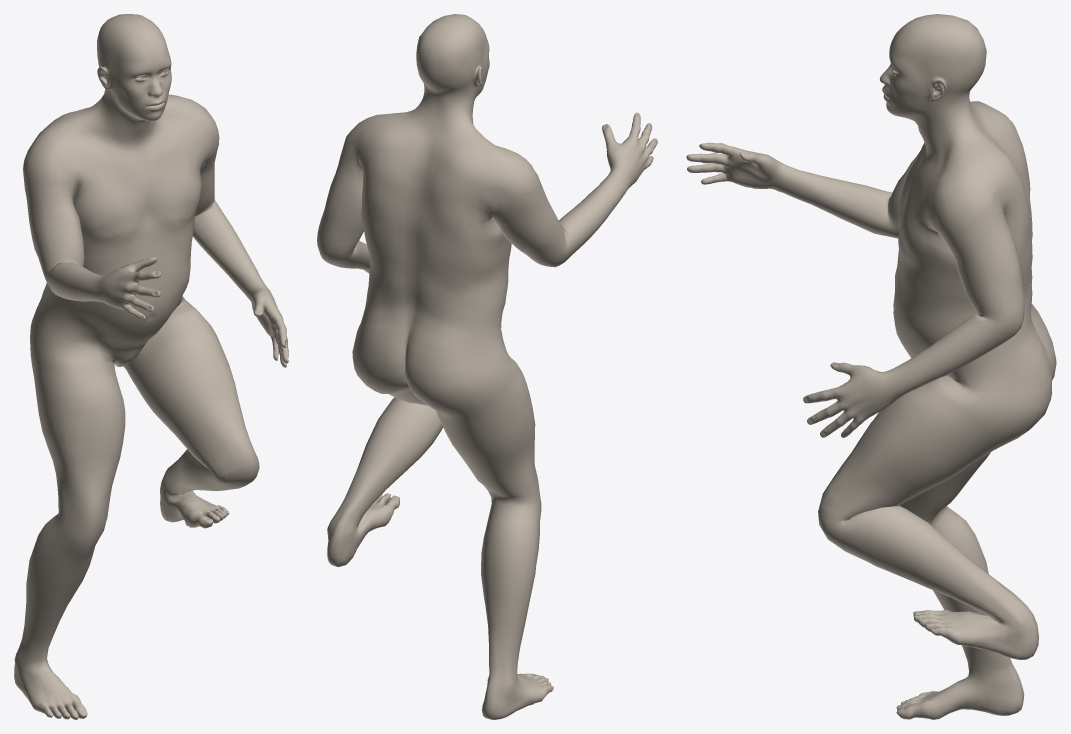
The model's file is sitka_body_run.glb.
3 views of the same model, side by side, from view 1: azimuth 30°, elevation 25°; view 2: azimuth 150°, elevation 25°; view 3: azimuth 270°, elevation 25° (orthographic). The views are drawn at different scales.
Visible parts, largest first — view 1: body_run; view 2: body_run; view 3: body_run.
Part boxes in pixels (x1,y1,x2,y2): body_run: (14, 14, 288, 719); body_run: (317, 14, 657, 719); body_run: (686, 14, 1056, 719).
Size of the model in its own units: 0.6228 by 1.79 by 0.8173.
